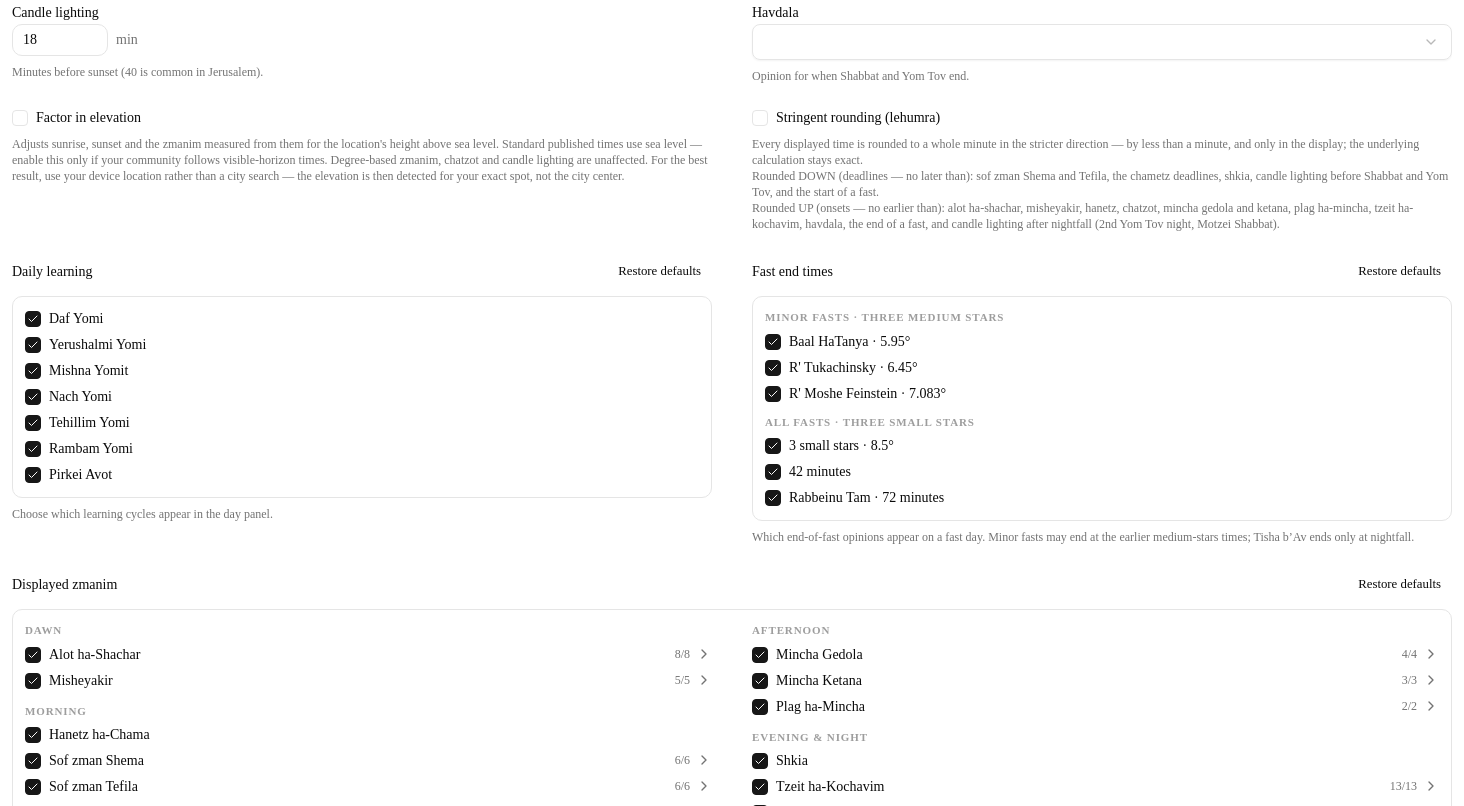
Scenario: candle-lighting offset field › falls back to the offset in effect when an empty field is abandoned
Clear the number field labelled "Candle lighting" at [60, 40], box [12,24,108,56]
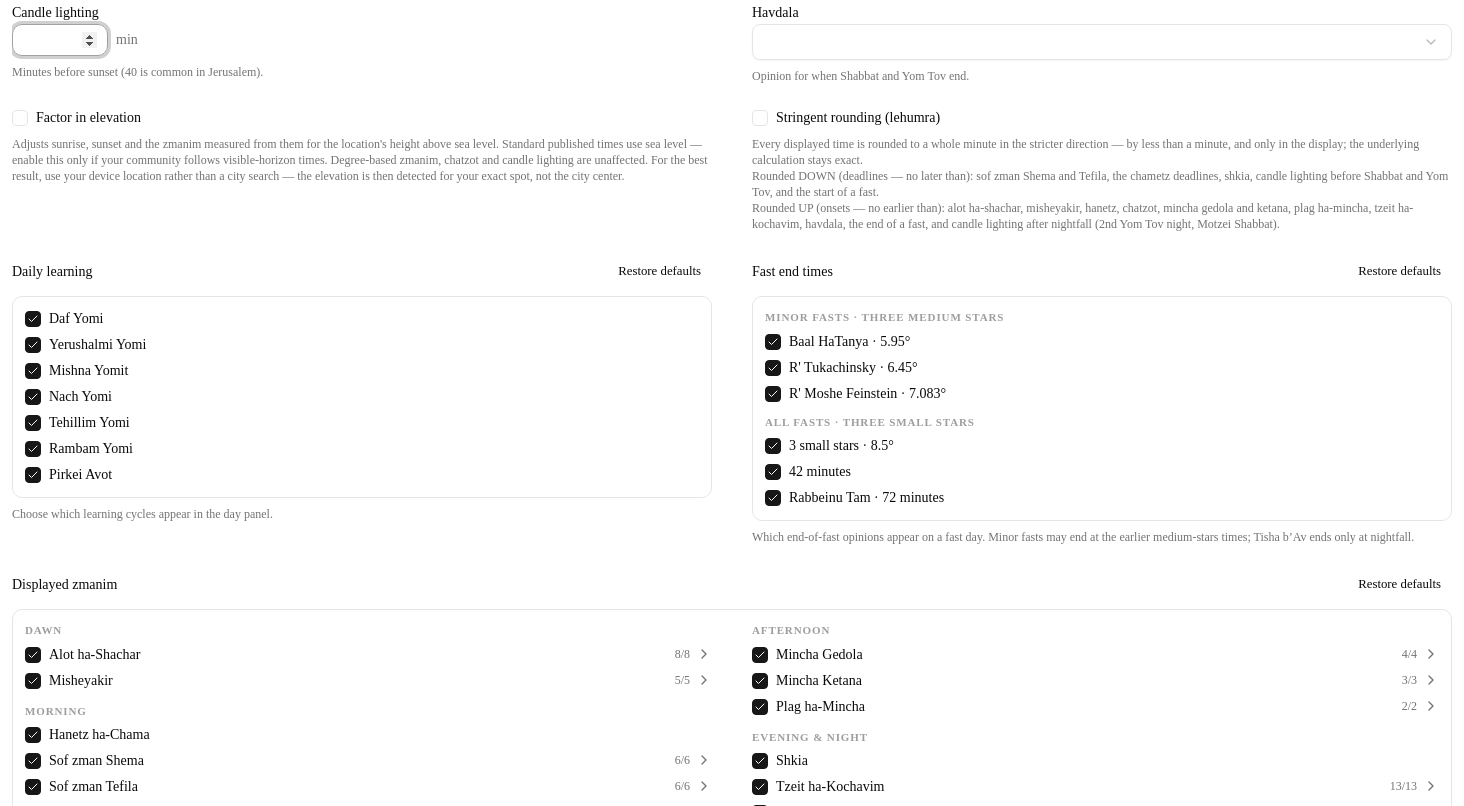
Press Tab
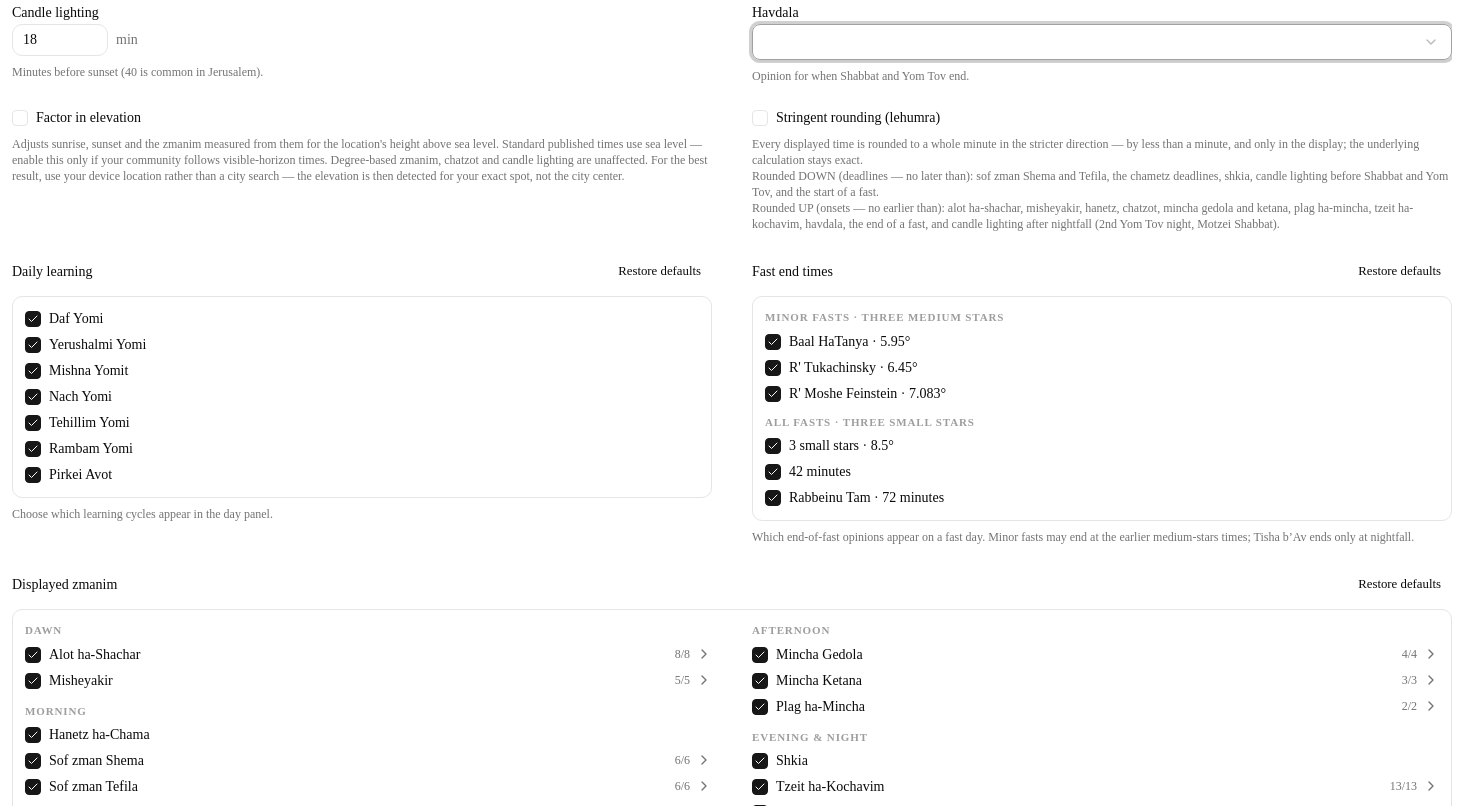
Now the number field labelled "Candle lighting" holds "18", box [12,24,108,56]
